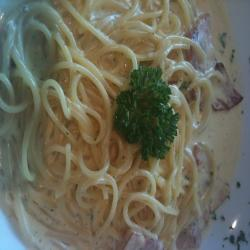carbonara: (5, 5, 227, 250)
